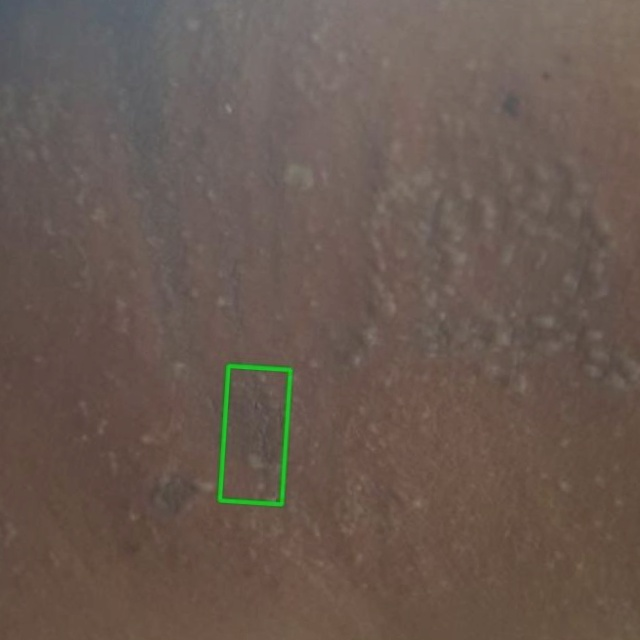Contact Dermatitis: (219, 365, 290, 504)
